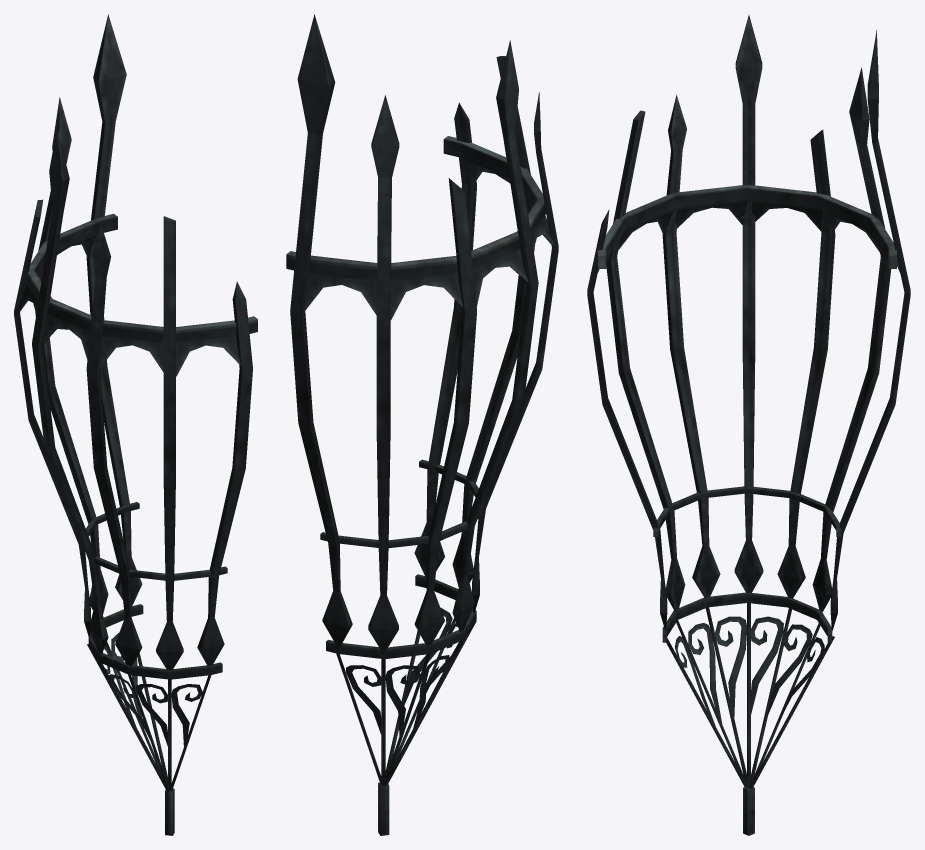
Rendered from SM_zhucheng_tiezhalan.FBX.
The picture shows the model from 3 angles, left to right: view 1: azimuth 30°, elevation 25°; view 2: azimuth 150°, elevation 25°; view 3: azimuth 270°, elevation 25°; orthographic projection. The views are drawn at different scales.
Parts seen in each view (by area): view 1: SM_zhucheng_tiezhalan; view 2: SM_zhucheng_tiezhalan; view 3: SM_zhucheng_tiezhalan.
Part boxes in pixels (x1=…): SM_zhucheng_tiezhalan: x1=14, y1=14, x2=257, y2=835; SM_zhucheng_tiezhalan: x1=286, y1=14, x2=558, y2=835; SM_zhucheng_tiezhalan: x1=587, y1=15, x2=910, y2=835.
Size of the model in its own units: 24.66 by 122 by 44.28.
